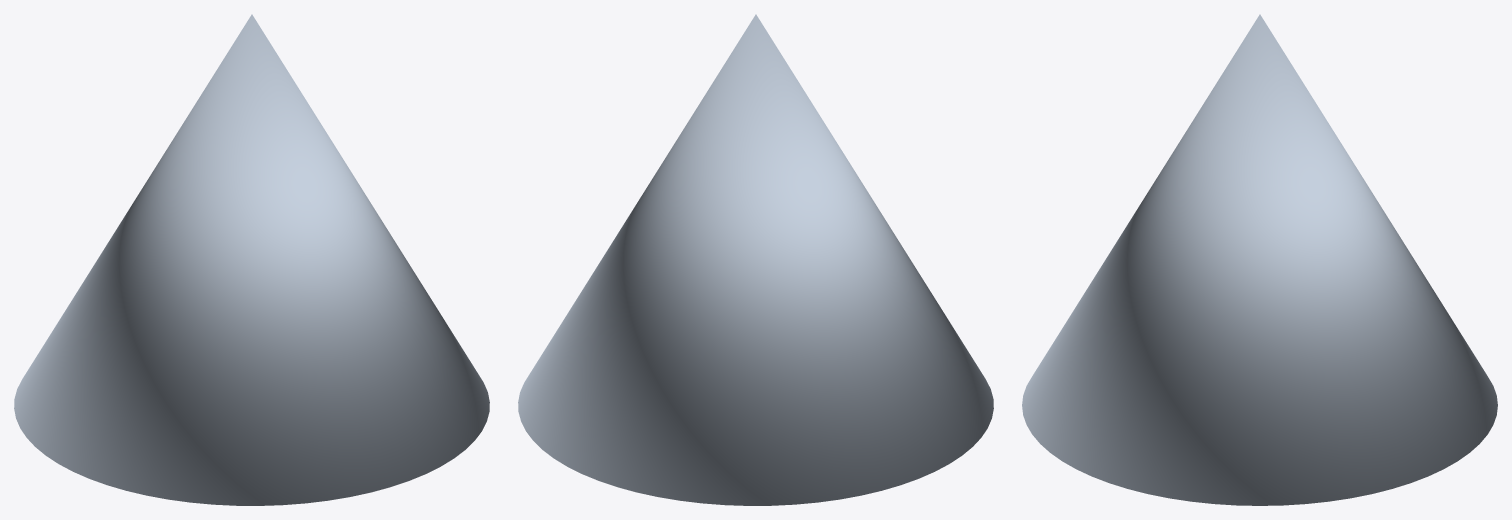
The model's file is blender_3d_cone.glb.
The picture shows the model from 3 angles, left to right: view 1: azimuth 30°, elevation 25°; view 2: azimuth 150°, elevation 25°; view 3: azimuth 270°, elevation 25°; orthographic projection.
Visible parts, largest first — view 1: Cone; view 2: Cone; view 3: Cone.
Boxes of the visible parts, left/top/right/bottom form: Cone: left=14, top=14, right=489, bottom=505; Cone: left=518, top=14, right=993, bottom=505; Cone: left=1022, top=14, right=1497, bottom=505.
Bounding box in the file's own units: 2.7 × 2.45 × 2.7.
